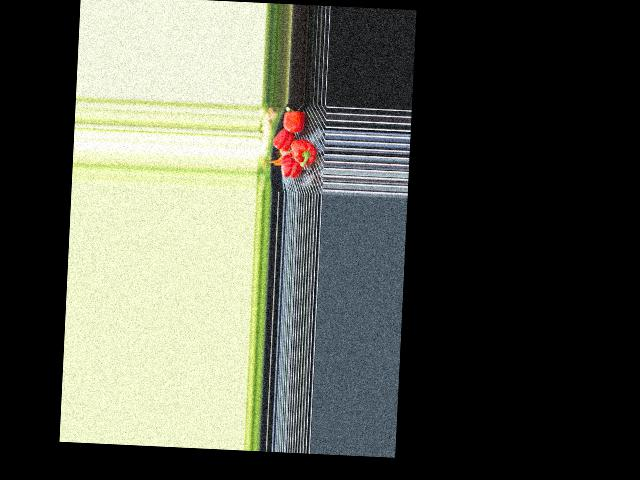bell_pepper: (279, 152, 302, 178)
